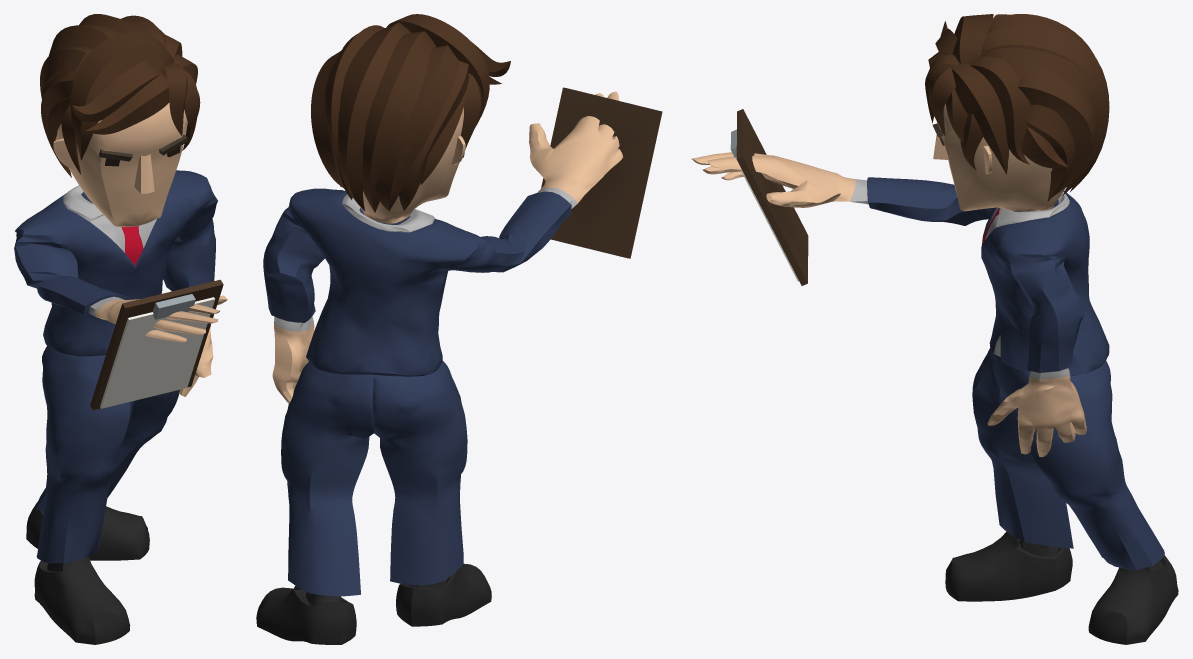
File: av-estagiario-bolao.glb
The picture shows the model from 3 angles, left to right: view 1: azimuth 30°, elevation 25°; view 2: azimuth 150°, elevation 25°; view 3: azimuth 270°, elevation 25°; orthographic projection. The views are drawn at different scales.
Parts seen in each view (by area): view 1: Ad_prancheta_0_0; view 2: Ad_prancheta_0_0; view 3: Ad_prancheta_0_0.
Part boxes in pixels (<box>): Ad_prancheta_0_0: <box>14,14,227,644</box>; Ad_prancheta_0_0: <box>256,14,662,644</box>; Ad_prancheta_0_0: <box>691,14,1178,644</box>.
Bounding box in the file's own units: 0.6008 × 1.37 × 1.03.
